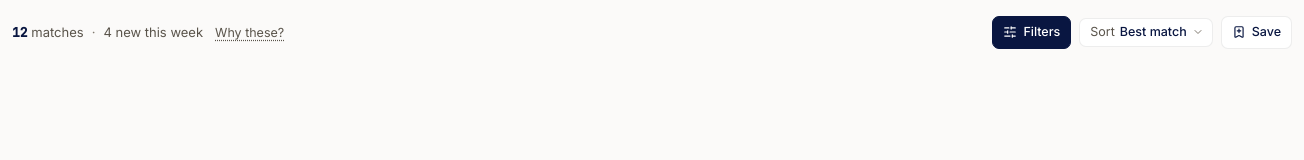
OppsSummaryRow › Why these? › prompts for a capability statement when the profile has none
Click the button "Why these?": (250, 33) [215,24,284,42]
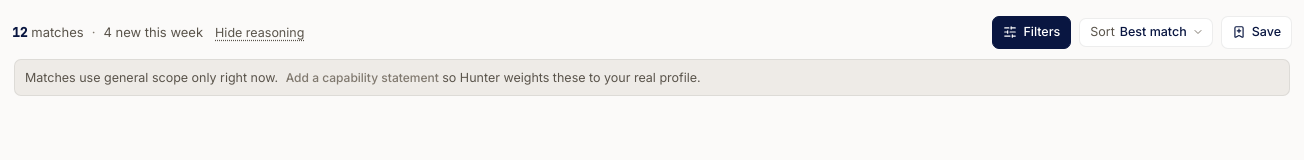
Check: the link "Add a capability statement" is shown, box [286,70,439,85]
